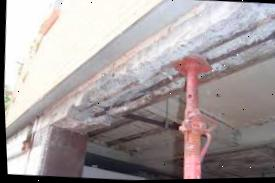exposed_rebar: (200, 11, 275, 53), (94, 78, 172, 116), (207, 31, 275, 64)
spalling: (66, 2, 275, 124)
